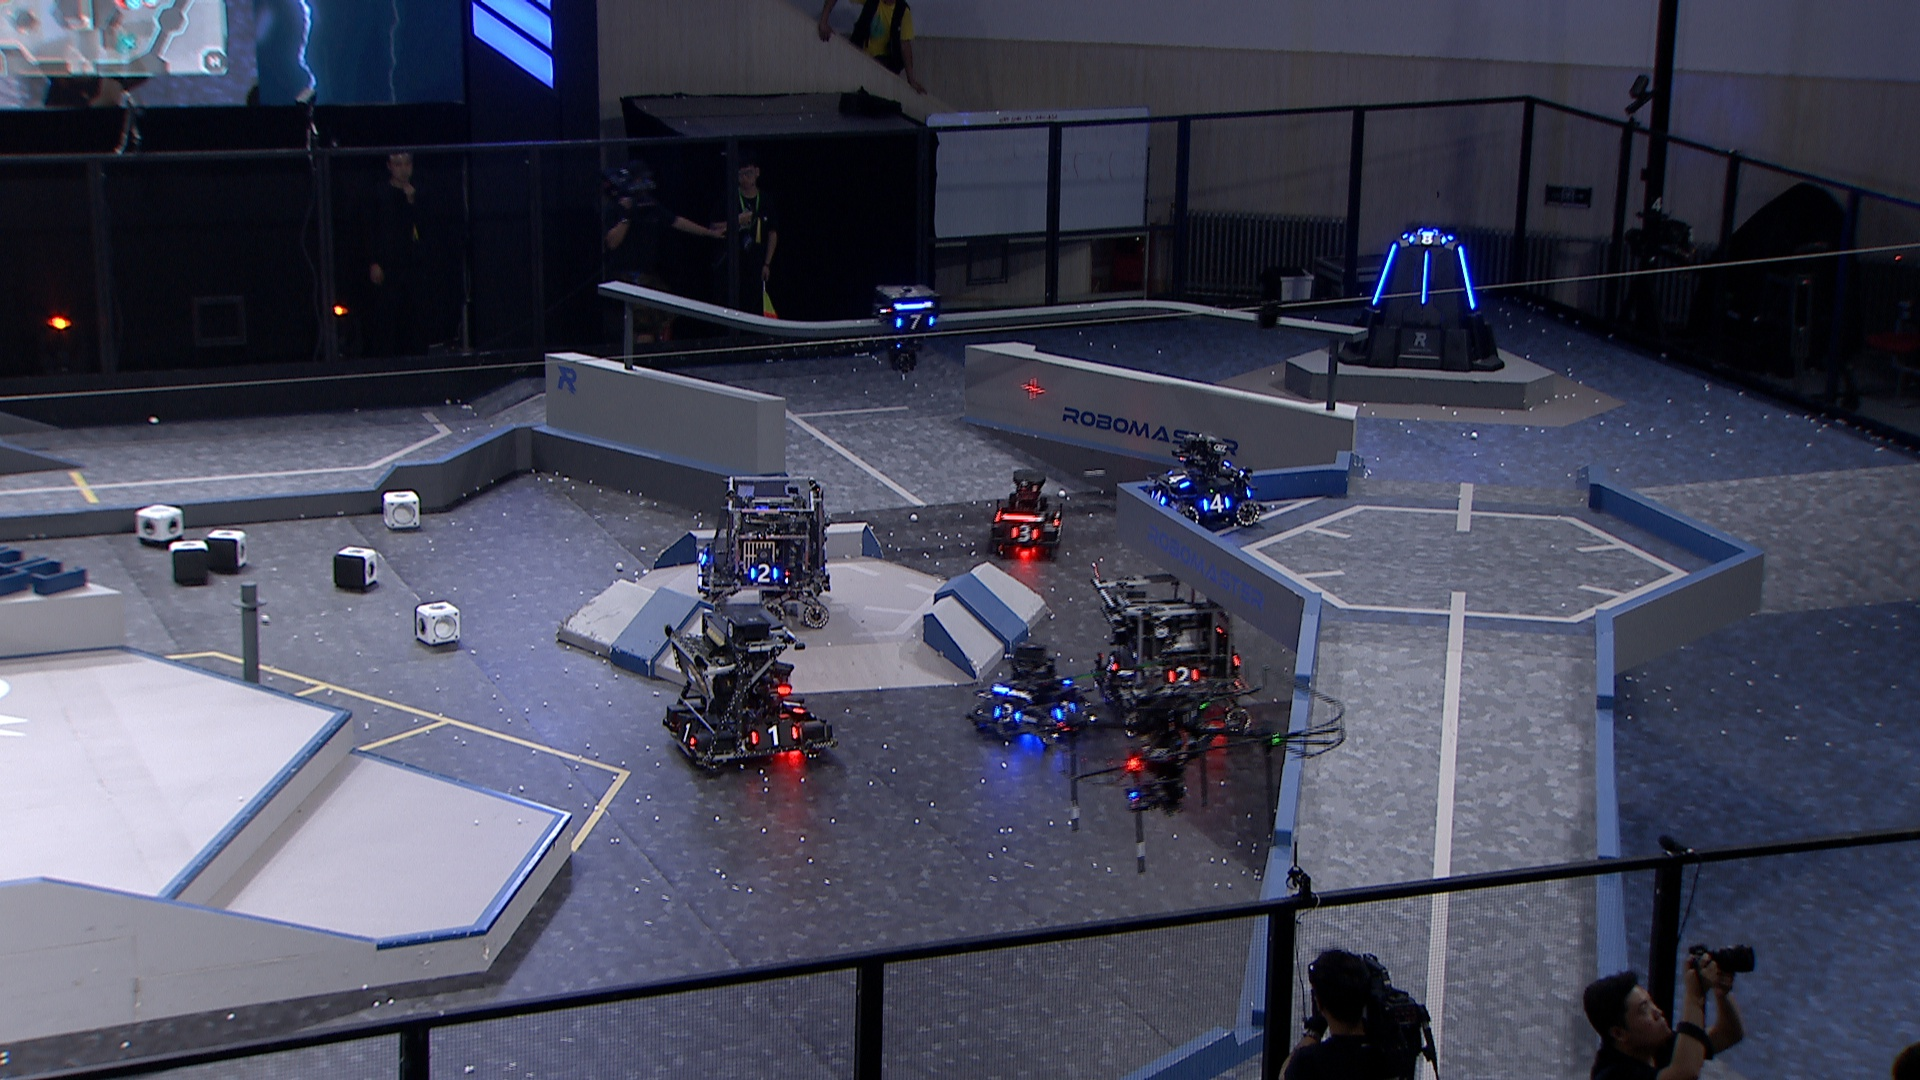armor: (1367, 243, 1400, 310), (1453, 244, 1480, 314), (745, 725, 800, 746), (1416, 247, 1433, 309), (1167, 659, 1200, 688), (893, 311, 935, 332), (1404, 229, 1451, 248), (1098, 647, 1124, 680), (1200, 489, 1230, 516), (676, 717, 699, 749), (749, 562, 781, 583), (992, 700, 1021, 723), (775, 694, 807, 713), (1054, 698, 1076, 725), (1007, 524, 1040, 542), (1166, 469, 1192, 491), (1054, 669, 1073, 690), (1149, 488, 1168, 506), (698, 545, 712, 566)
base: (1335, 228, 1509, 375)
car: (661, 600, 843, 775), (1091, 564, 1257, 737), (692, 469, 832, 632), (969, 636, 1091, 744), (1143, 431, 1267, 527), (986, 467, 1065, 556)
watcher: (872, 278, 944, 377)
